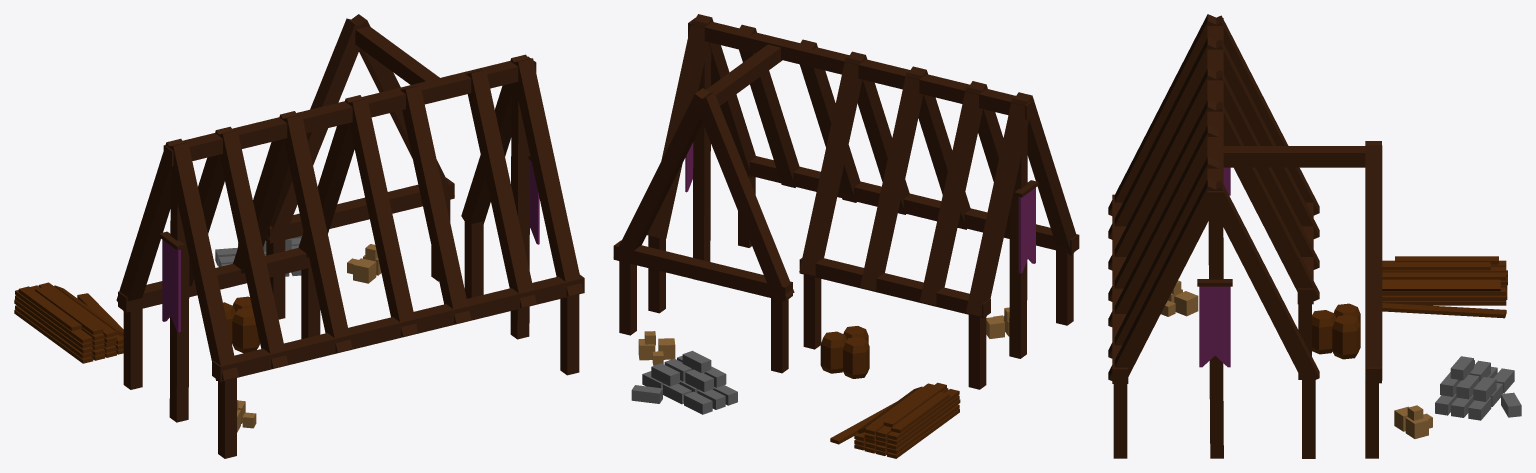
The model's file is DwellingBuildPhase2v1.fbx.
3 views of the same model, side by side, from view 1: azimuth 30°, elevation 25°; view 2: azimuth 150°, elevation 25°; view 3: azimuth 270°, elevation 25° (orthographic). The views are drawn at different scales.
Parts seen in each view (by area): view 1: Cube.657; view 2: Cube.657; view 3: Cube.657.
Part boxes in pixels (x1,y1,x2,y2): Cube.657: (14,14,584,458); Cube.657: (613,14,1079,458); Cube.657: (1108,14,1521,458).
Size of the model in its own units: 208 by 150 by 205.
